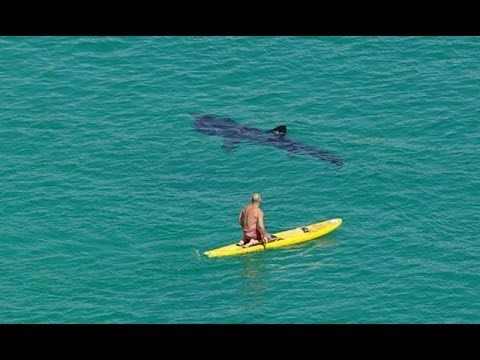shark: (181, 107, 347, 176)
surfer: (195, 189, 346, 259)
